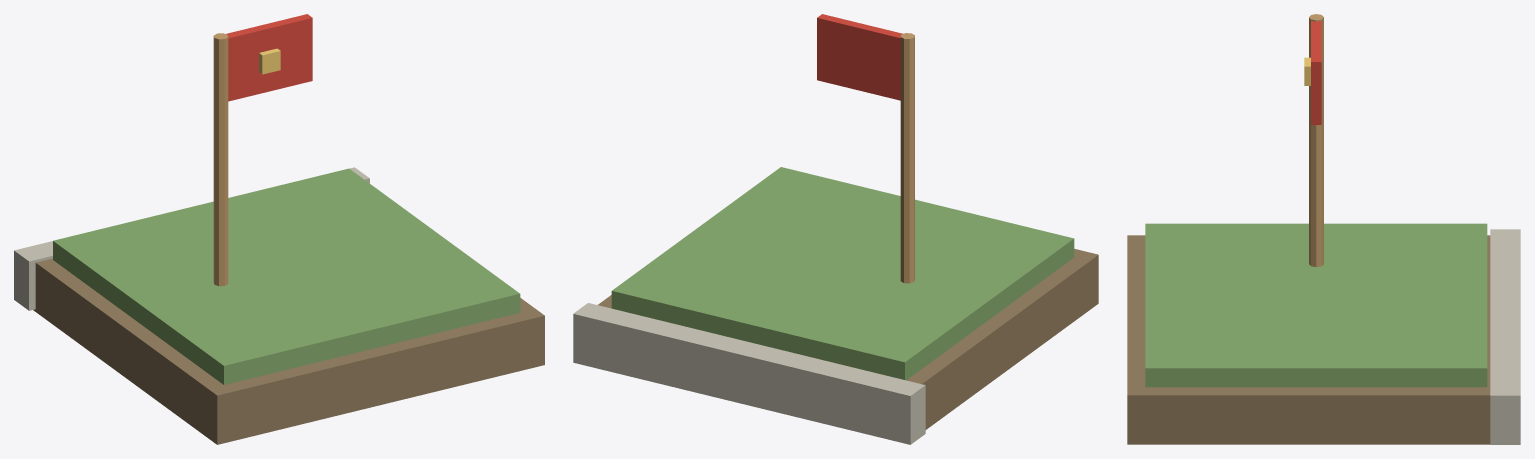
Rendered from 18_CoHieuDo.glb.
3 renders of one model, left to right at view 1: azimuth 30°, elevation 25°; view 2: azimuth 150°, elevation 25°; view 3: azimuth 270°, elevation 25°, orthographic.
Parts seen in each view (by area): view 1: grass, soil, flag, pole, border; view 2: grass, border, soil, flag, pole; view 3: grass, soil, border, pole, flag.
Boxes of the visible parts, bbox=[...] form: grass: bbox=[53, 168, 520, 384]; soil: bbox=[33, 258, 544, 444]; flag: bbox=[226, 14, 312, 101]; pole: bbox=[213, 33, 228, 286]; border: bbox=[14, 167, 369, 310]; grass: bbox=[611, 167, 1074, 380]; border: bbox=[573, 303, 925, 444]; soil: bbox=[598, 249, 1098, 429]; flag: bbox=[817, 14, 902, 100]; pole: bbox=[900, 33, 914, 283]; grass: bbox=[1145, 223, 1487, 387]; soil: bbox=[1127, 235, 1490, 444]; border: bbox=[1490, 229, 1520, 444]; pole: bbox=[1309, 14, 1323, 267]; flag: bbox=[1311, 21, 1321, 124].
Bounding box in the file's own units: 1.3 × 1.15 × 1.3.
